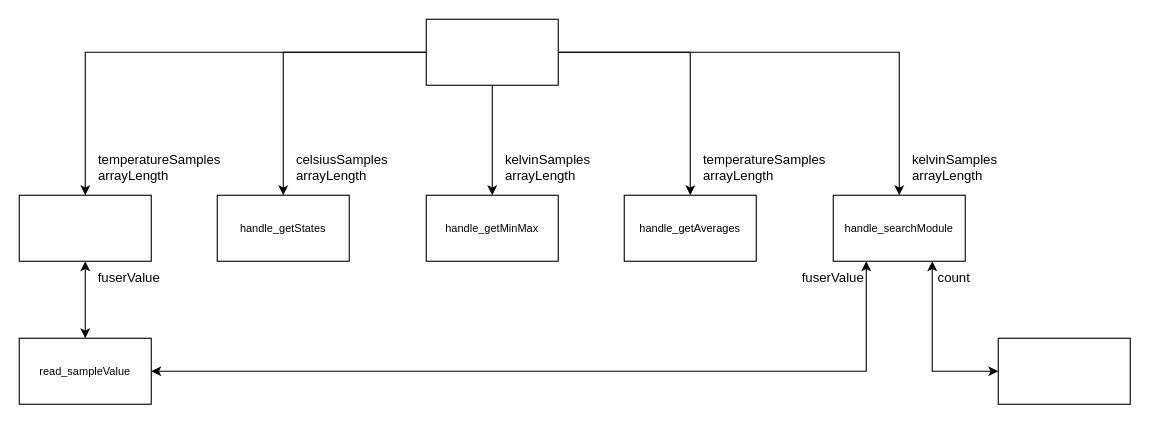
This 1150x424 diagram has some shape labels left out. The shapes that lost their labels are listed below. From the top down, each one's centre as x and y in pixels, then its label:
the point at 491,51: MAIN
the point at 84,227: handle_readSamples
the point at 1063,370: get_numberOfSamples
